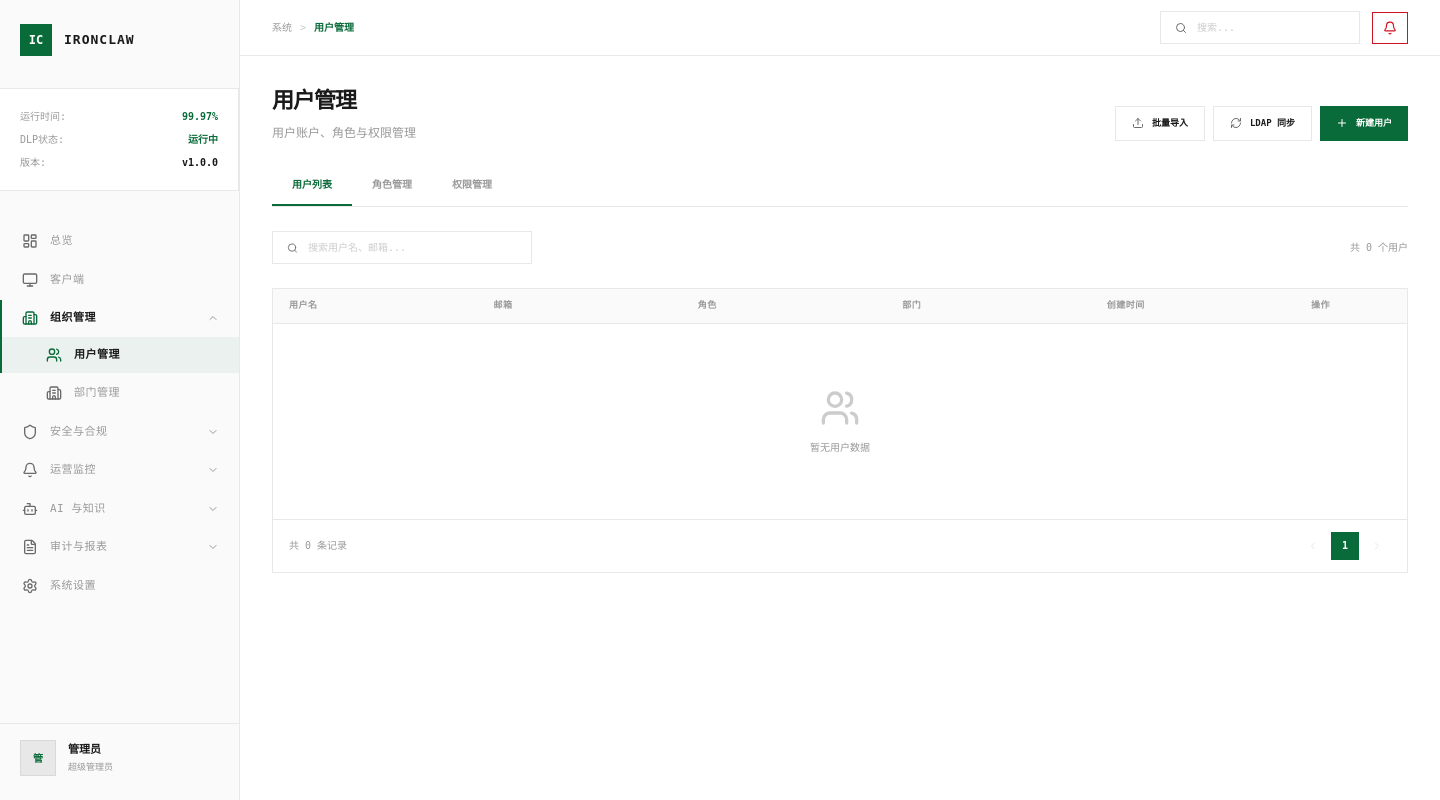
Test: 用户管理 › 新建用户弹窗 › 不填字段点击创建应显示错误
Click the button "新建用户" at (1364, 124), box [1320,106,1408,142]
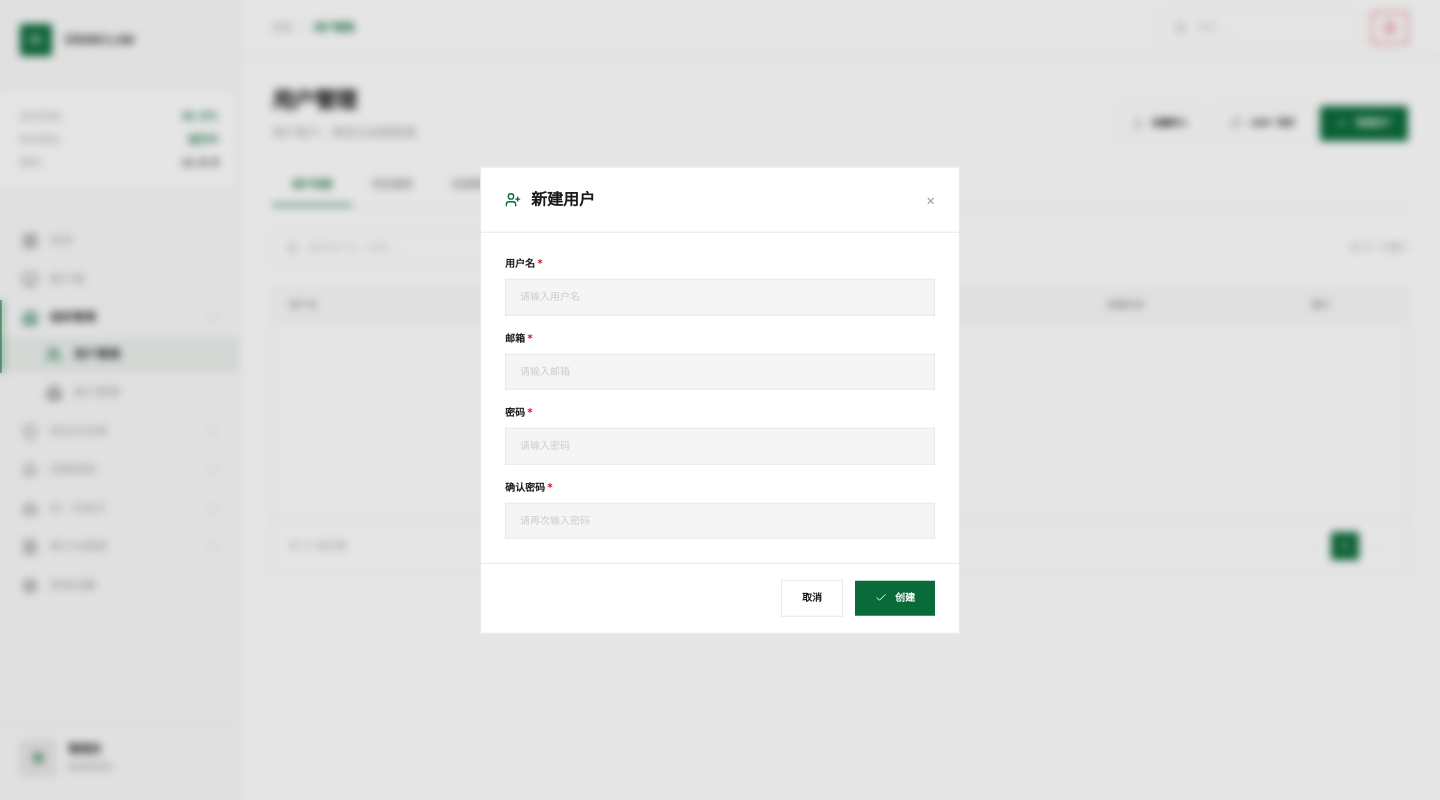
Click the button "创建" at (895, 598), box [855,581,935,615]
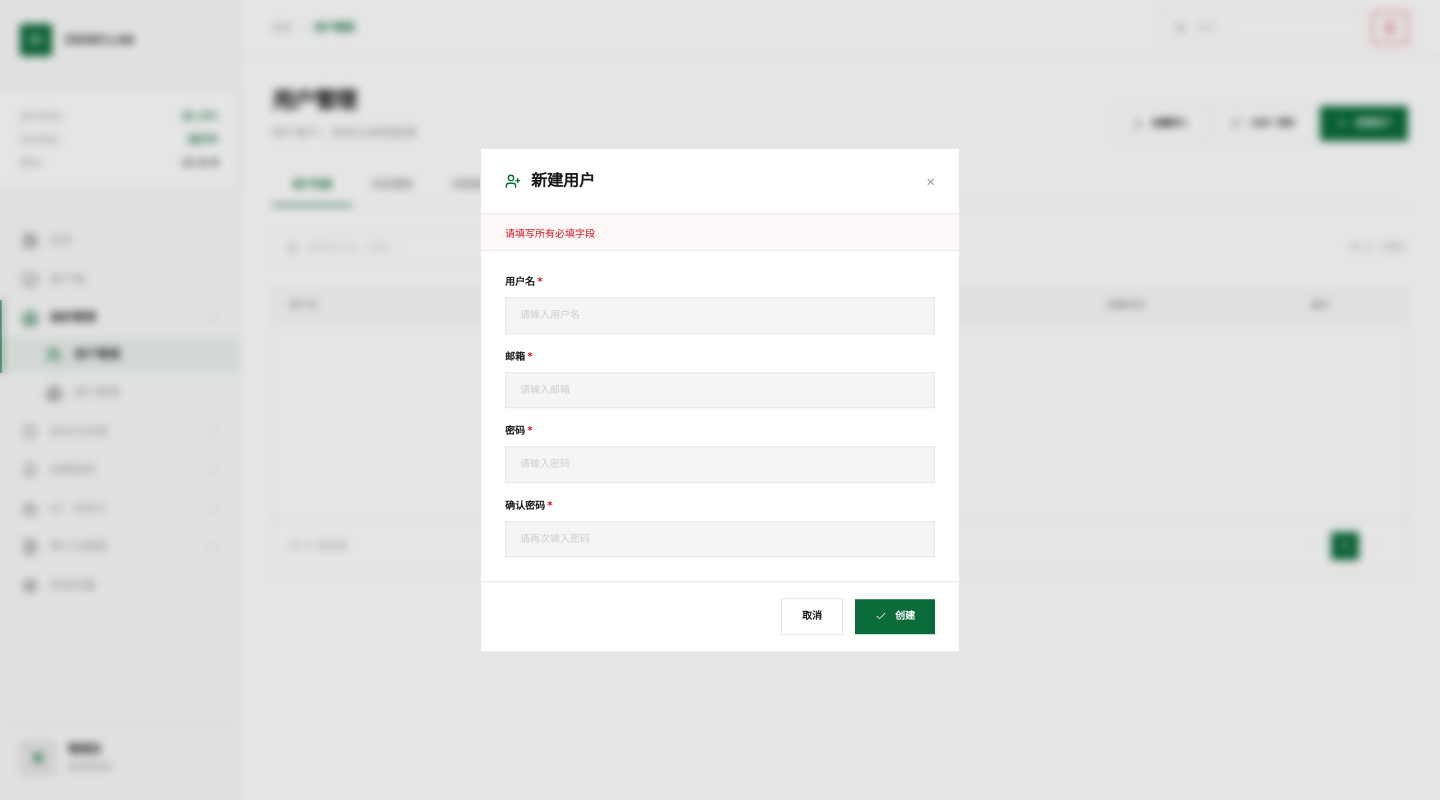
Now the text "请填写所有必填字段" is shown, box [505,228,595,239]
